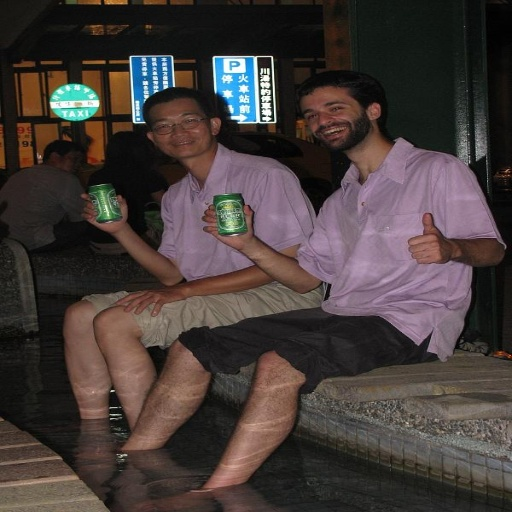hand: (200, 200, 256, 253), (77, 188, 128, 238), (407, 213, 455, 266), (108, 282, 171, 317)
